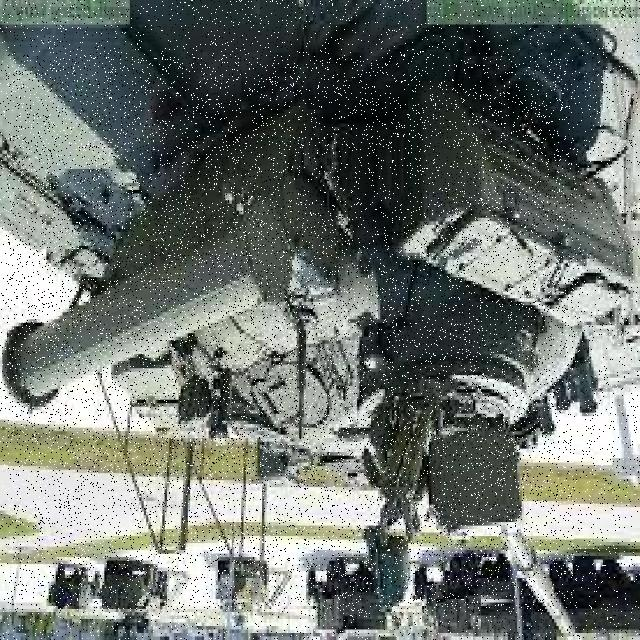MIL_MBT: (8, 57, 574, 608)
